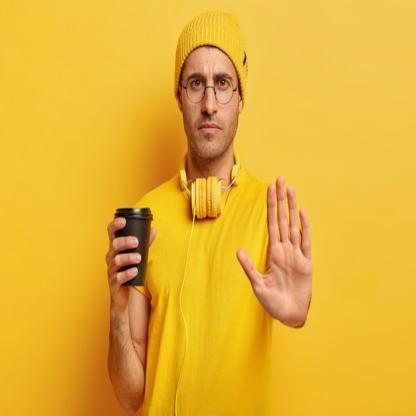stop: (236, 174, 319, 328)
